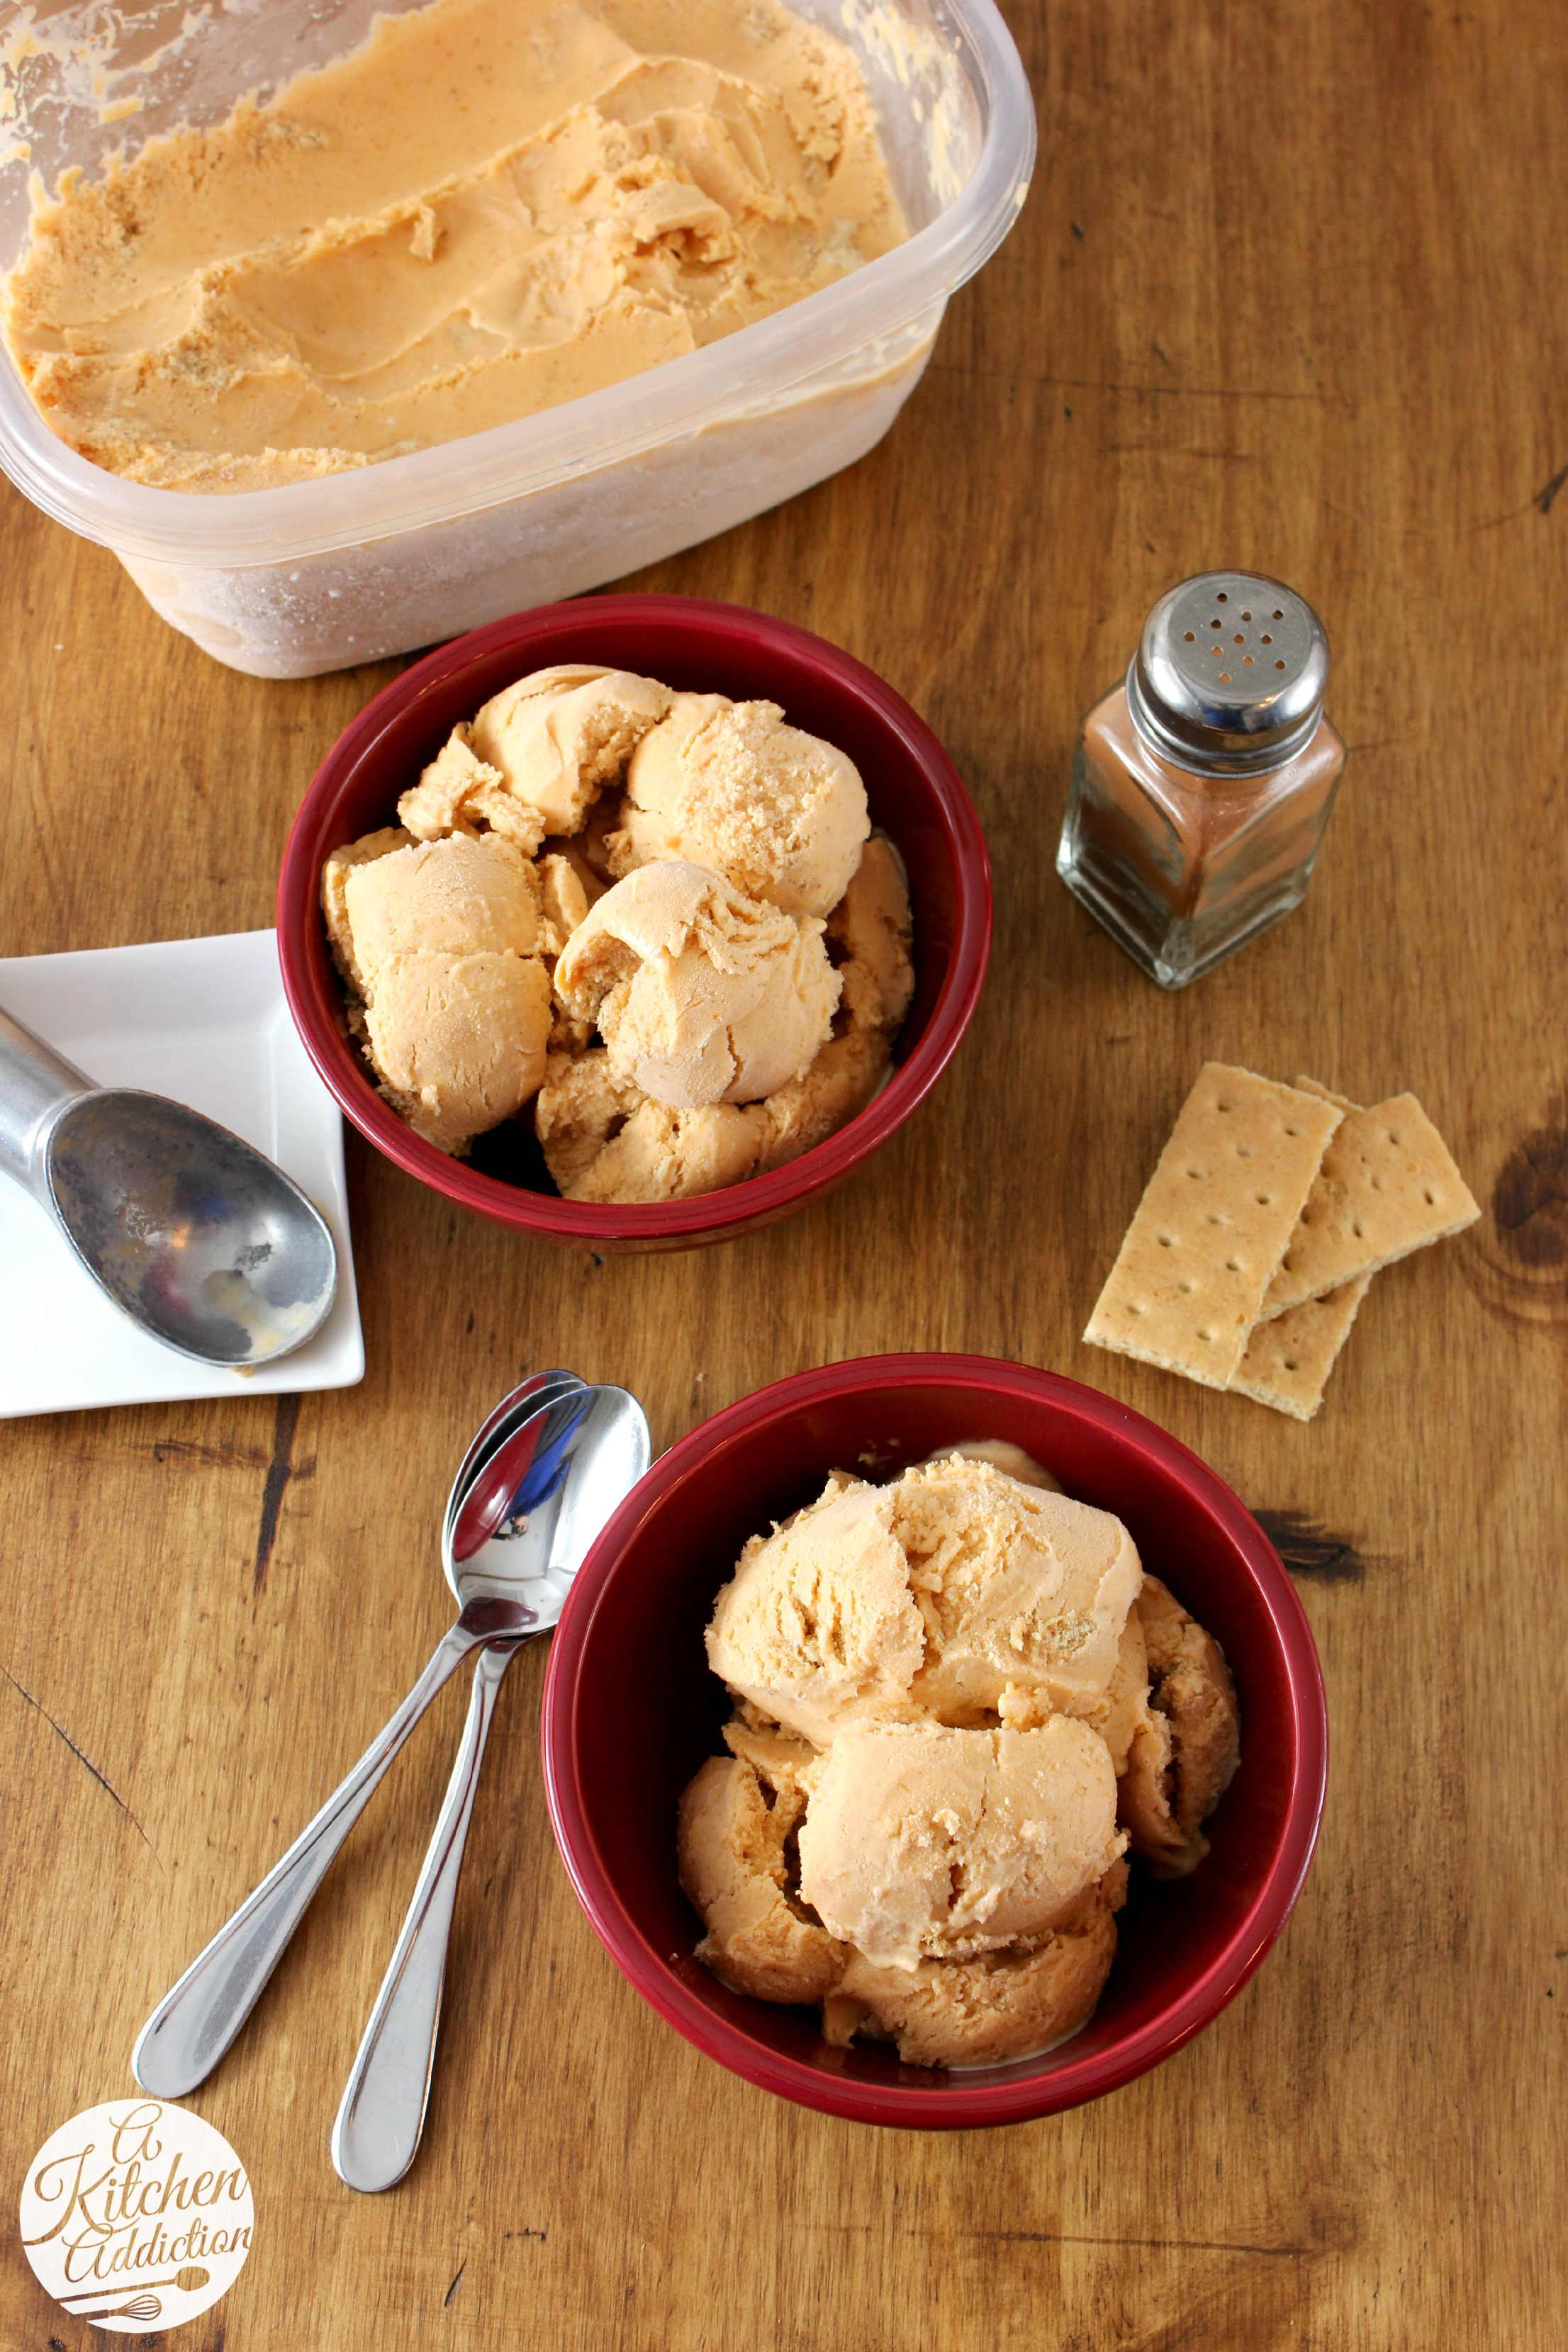ice-cream: (817, 1722, 1146, 1958), (322, 833, 565, 1130), (912, 1454, 1150, 1710), (717, 1463, 934, 1725), (579, 878, 831, 1090), (541, 1045, 887, 1199), (642, 693, 873, 917), (422, 668, 656, 852), (836, 1930, 1130, 2074), (674, 1727, 824, 1986)
